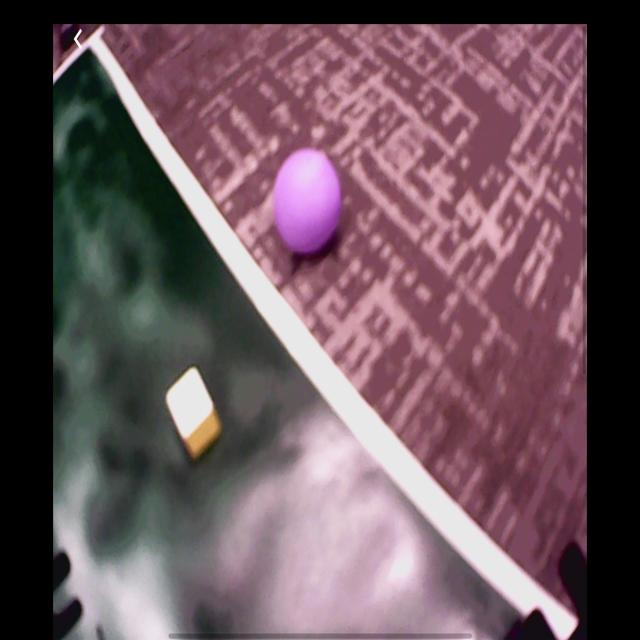ball: (272, 151, 338, 257)
